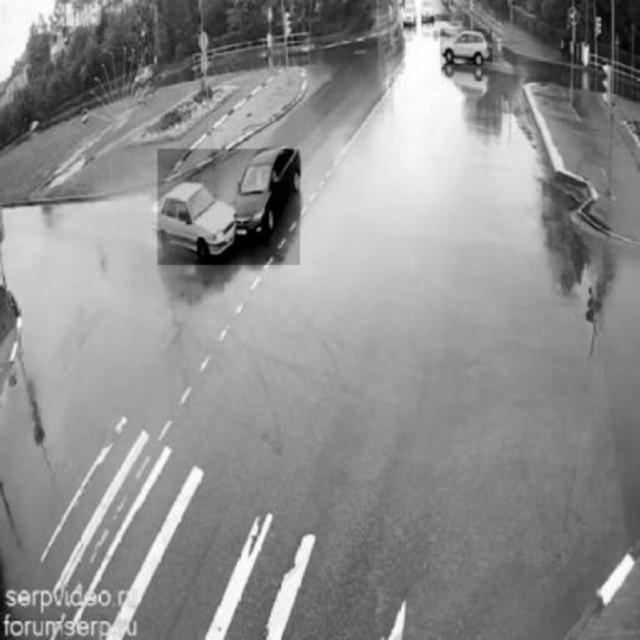accident: (158, 149, 300, 265)
vehicle: (441, 29, 493, 65)
